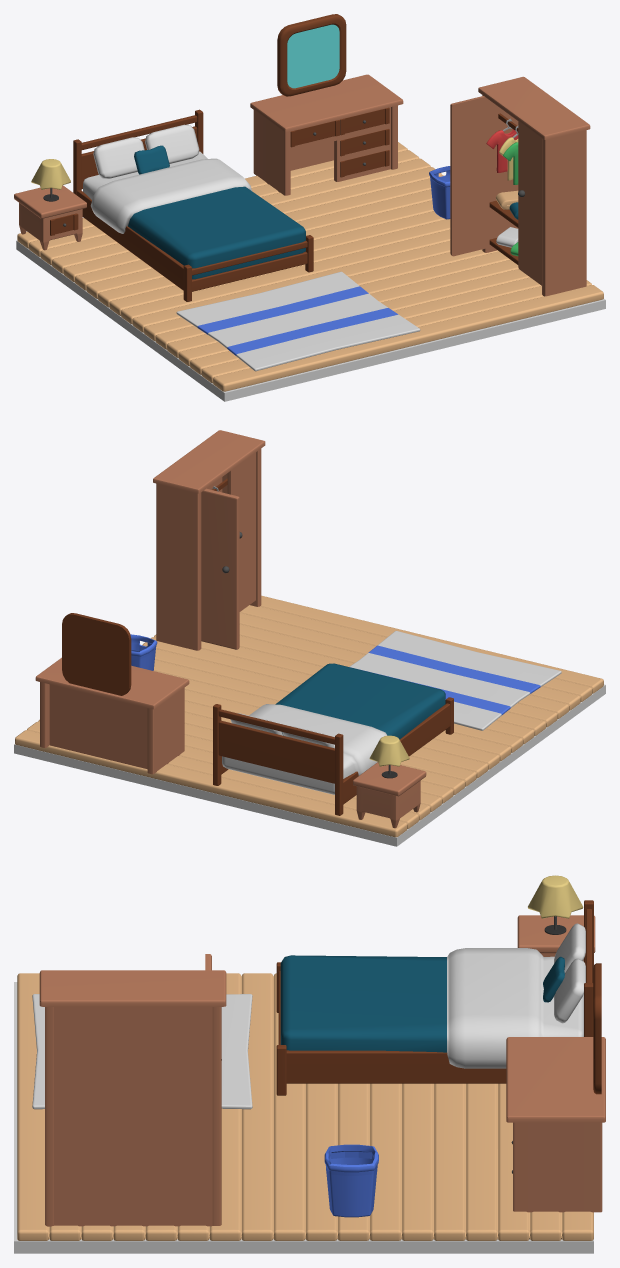
The model's file is bedroom.fbx.
3 views of the same model, one above another, from view 1: azimuth 30°, elevation 25°; view 2: azimuth 150°, elevation 25°; view 3: azimuth 270°, elevation 25° (orthographic). The views are drawn at different scales.
Visible parts, largest first — view 1: floor_planks, polySurface43, polySurface30, mattress, polySurface21, polySurface38, base, pCube2, polySurface28, polySurface33, polySurface39, polySurface42 (+4 smaller); view 2: floor_planks, polySurface43, polySurface30, polySurface21, mattress, polySurface38, base, pCube2, polySurface42, polySurface39, polySurface45, dustbin; view 3: floor_planks, polySurface43, polySurface30, polySurface21, base, polySurface38, mattress, dustbin, polySurface33, polySurface39, polySurface45, pCube2 (+1 smaller).
Part boxes in pixels (left/top/right/bottom): floor_planks: left=17, top=142, right=603, bottom=391; polySurface43: left=450, top=76, right=590, bottom=296; polySurface30: left=83, top=151, right=305, bottom=279; mattress: left=176, top=271, right=420, bottom=371; polySurface21: left=250, top=74, right=403, bottom=195; polySurface38: left=73, top=109, right=313, bottom=301; base: left=16, top=240, right=605, bottom=401; pCube2: left=277, top=14, right=346, bottom=96; polySurface28: left=290, top=107, right=389, bottom=177; polySurface33: left=93, top=124, right=199, bottom=178; polySurface39: left=14, top=185, right=86, bottom=218; polySurface42: left=19, top=203, right=82, bottom=250; floor_planks: left=15, top=595, right=603, bottom=837; polySurface43: left=153, top=430, right=265, bottom=650; polySurface30: left=222, top=663, right=445, bottom=794; polySurface21: left=35, top=657, right=189, bottom=774; mattress: left=349, top=631, right=561, bottom=730; polySurface38: left=213, top=697, right=453, bottom=815; base: left=14, top=684, right=605, bottom=846; pCube2: left=62, top=613, right=131, bottom=695; polySurface42: left=356, top=781, right=420, bottom=828; polySurface39: left=353, top=762, right=426, bottom=796; polySurface45: left=369, top=735, right=409, bottom=766; dustbin: left=130, top=634, right=157, bottom=670; floor_planks: left=17, top=973, right=593, bottom=1240; polySurface43: left=39, top=954, right=226, bottom=1226; polySurface30: left=280, top=948, right=583, bottom=1068; polySurface21: left=506, top=1037, right=605, bottom=1212; base: left=14, top=982, right=593, bottom=1253; polySurface38: left=276, top=900, right=593, bottom=1095; mattress: left=32, top=994, right=252, bottom=1109; dustbin: left=324, top=1144, right=378, bottom=1217; polySurface33: left=554, top=923, right=585, bottom=1023; polySurface39: left=517, top=915, right=595, bottom=953; polySurface45: left=528, top=875, right=583, bottom=918; pCube2: left=593, top=963, right=601, bottom=1094.
Bounding box in the file's own units: 463 × 206 × 444.
